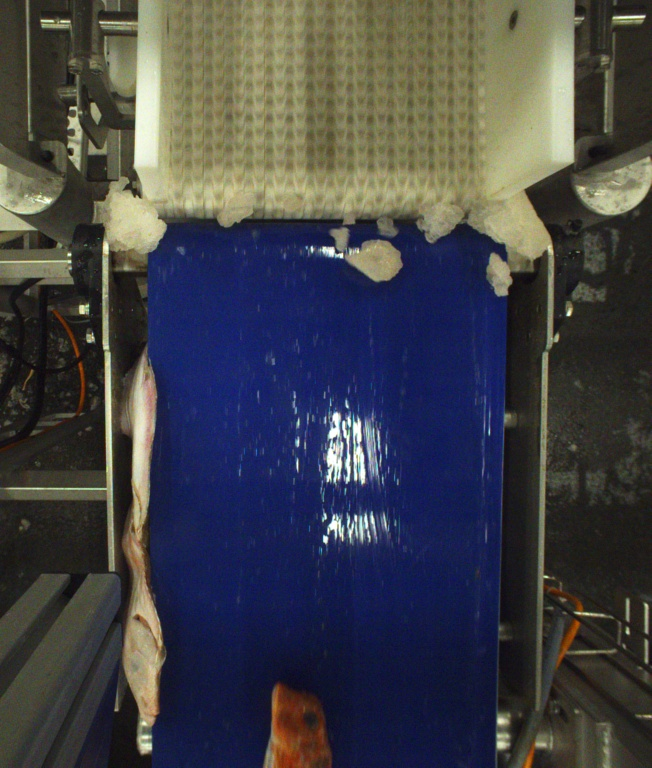GUU: (268, 685, 333, 765)
